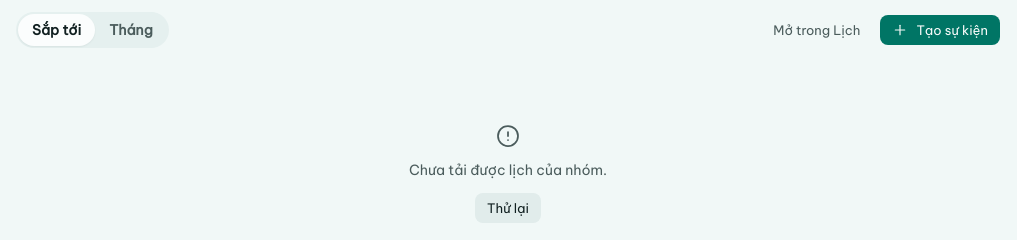
the Lịch tab of a group › offers a retry when the calendar cannot be loaded
Expected: the text "Chưa tải được lịch của nhóm." is shown, [409,160,607,181]
Click the button "Thử lại" at [508, 208], box [475,193,541,223]
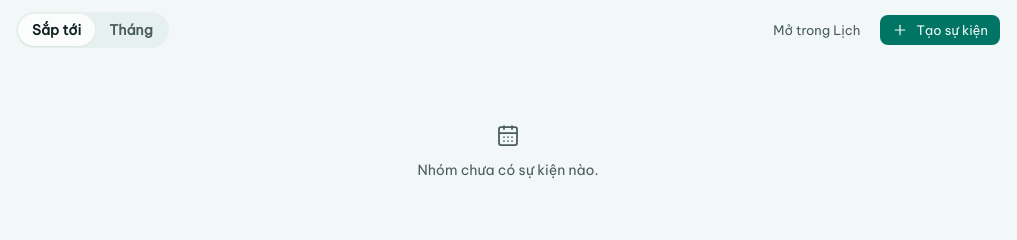
Now the text "Nhóm chưa có sự kiện nào." is shown, box [417,160,599,181]
